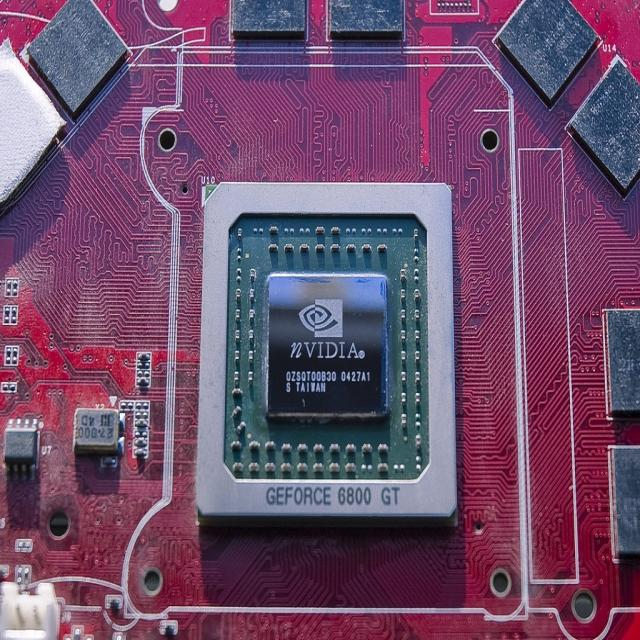nvidia: (298, 298, 344, 340)
